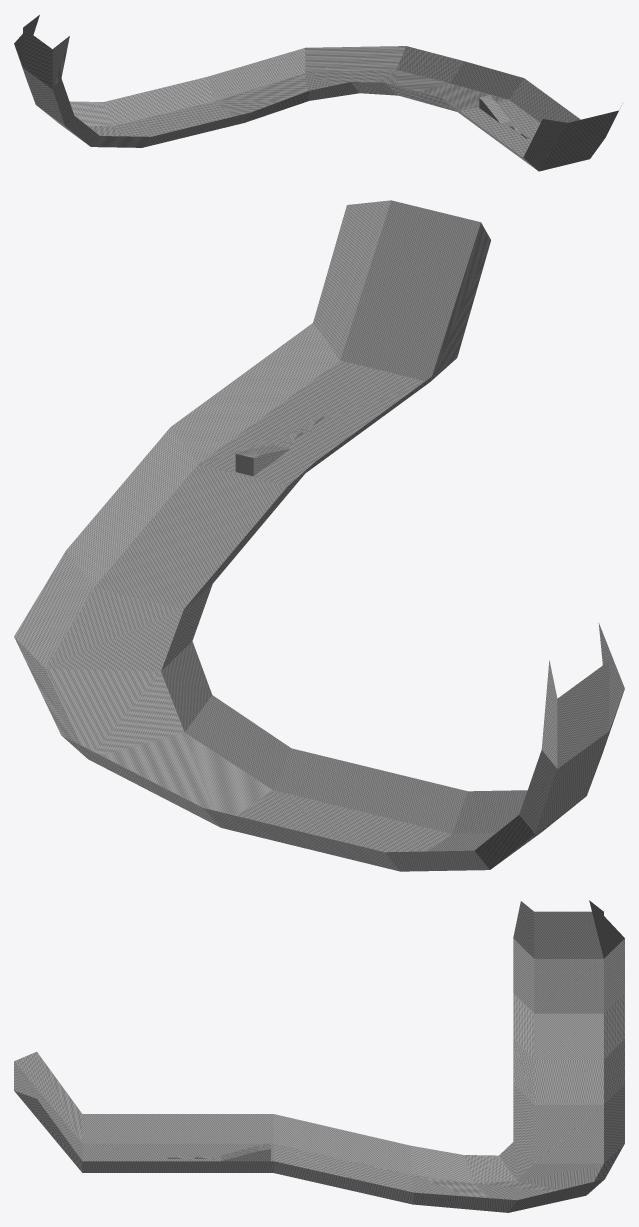
Rendered from testmap.gltf.
3 views of the same model, one above another, from view 1: azimuth 30°, elevation 25°; view 2: azimuth 150°, elevation 25°; view 3: azimuth 270°, elevation 25° (orthographic). The views are drawn at different scales.
Visible parts, largest first — view 1: Plane, Cube; view 2: Plane, Cube; view 3: Plane, Cube.
Boxes of the visible parts, x1,y1,x2,y2 form: Plane: (14,15,622,171); Cube: (479,95,529,138); Plane: (14,200,624,871); Cube: (235,415,323,476); Plane: (14,900,624,1212); Cube: (167,1143,270,1161).
Bounding box in the file's own units: 282 × 103 × 352.
Materials: 1 (1 with a texture image).
